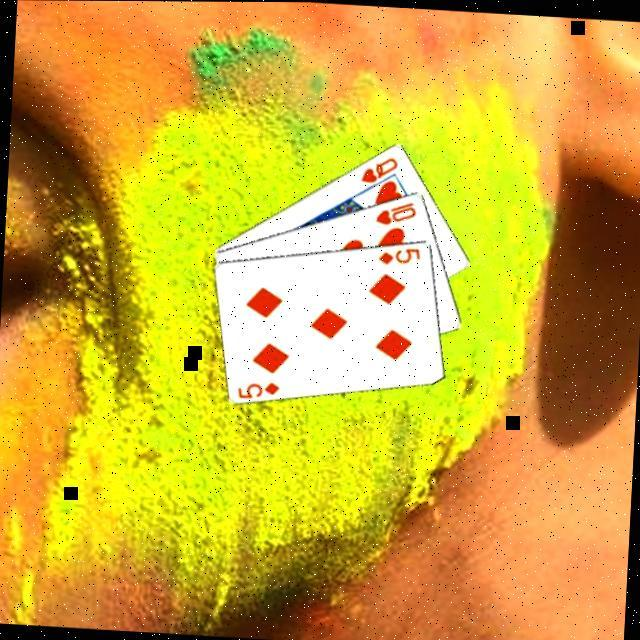10H: (370, 194, 418, 226)
5D: (232, 375, 282, 400), (373, 240, 421, 266)
QH: (355, 149, 399, 185)
